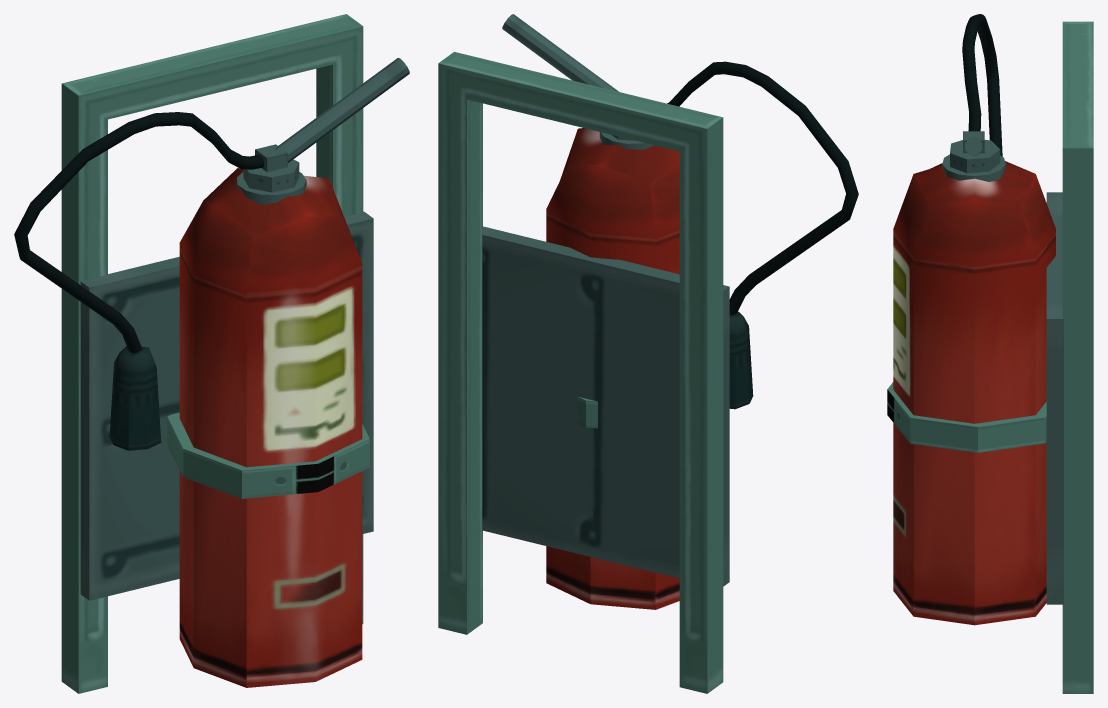
The model's file is fire extinguisher.fbx.
3 views of the same model, side by side, from view 1: azimuth 30°, elevation 25°; view 2: azimuth 150°, elevation 25°; view 3: azimuth 270°, elevation 25° (orthographic). The views are drawn at different scales.
Visible parts, largest first — view 1: pCube49; view 2: pCube49; view 3: pCube49.
Boxes of the visible parts, x1,y1,x2,y2 form: pCube49: (14,14,409,693); pCube49: (438,14,858,693); pCube49: (887,14,1093,693).
Size of the model in its own units: 2.52 by 3.77 by 1.27.
Materials: 10 (10 with a texture image).
